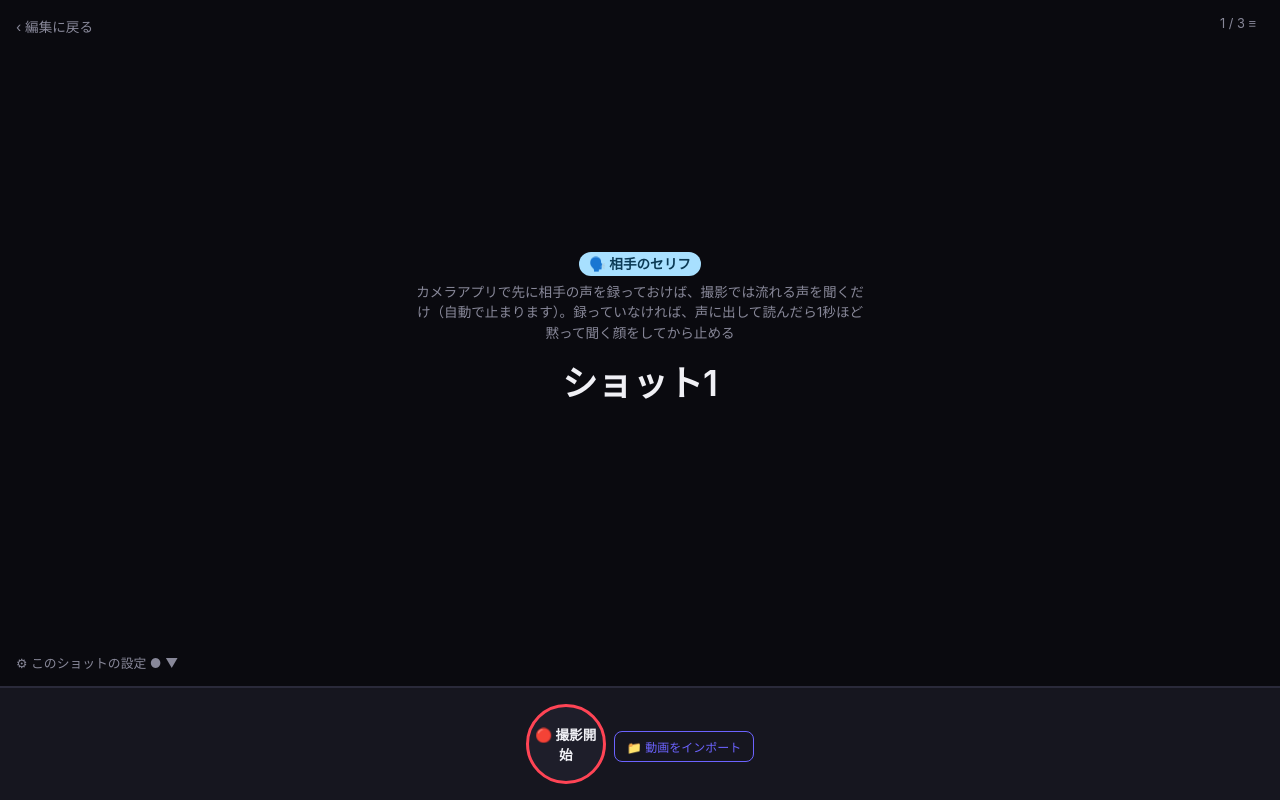
RecordPage 相手のセリフ › says what to do on the other person's line, and marks it in the shot list
Expected: the element that starts with "相手のセリフ" is shown, [606,256,691,272]
Click the button "1 / 3 ≡".
click(1238, 24)  # box [1212,12,1264,35]
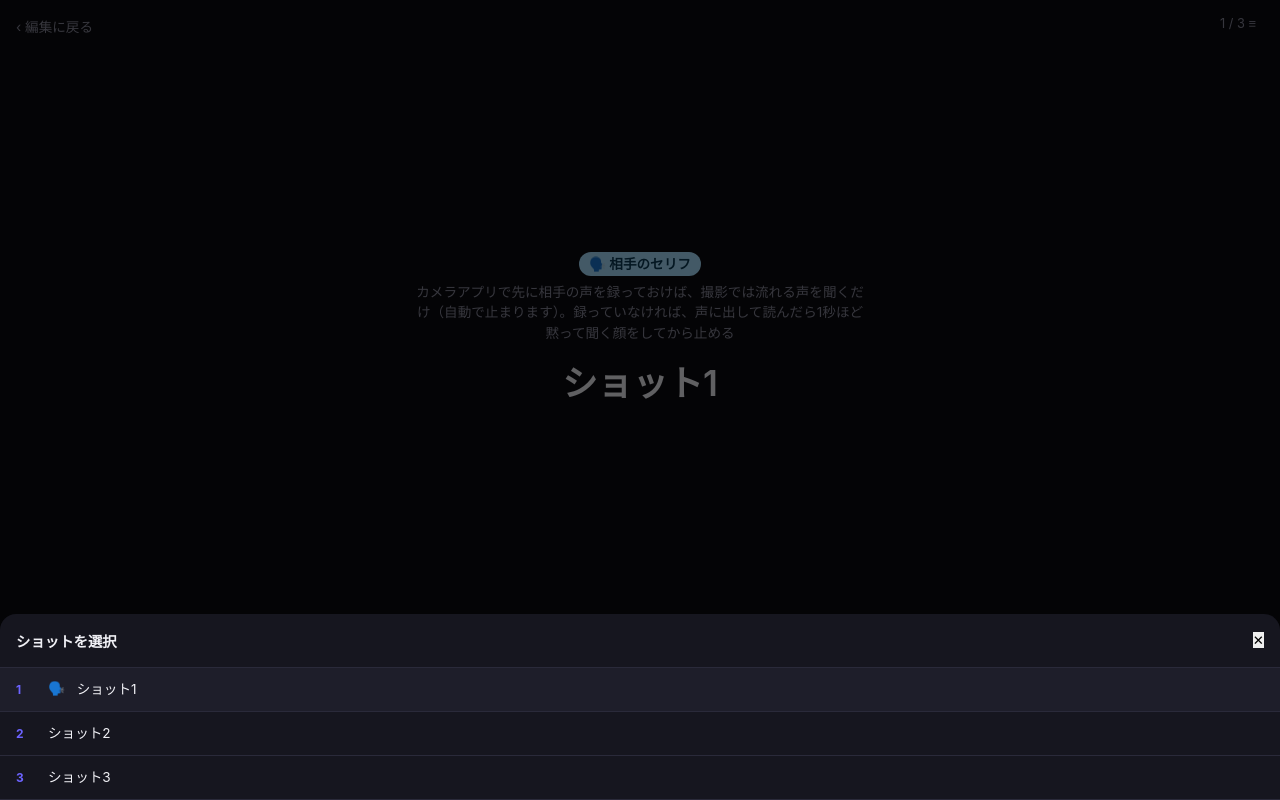
Result: the number of elements named "相手のセリフ" is 1 at [48,680,65,696]
